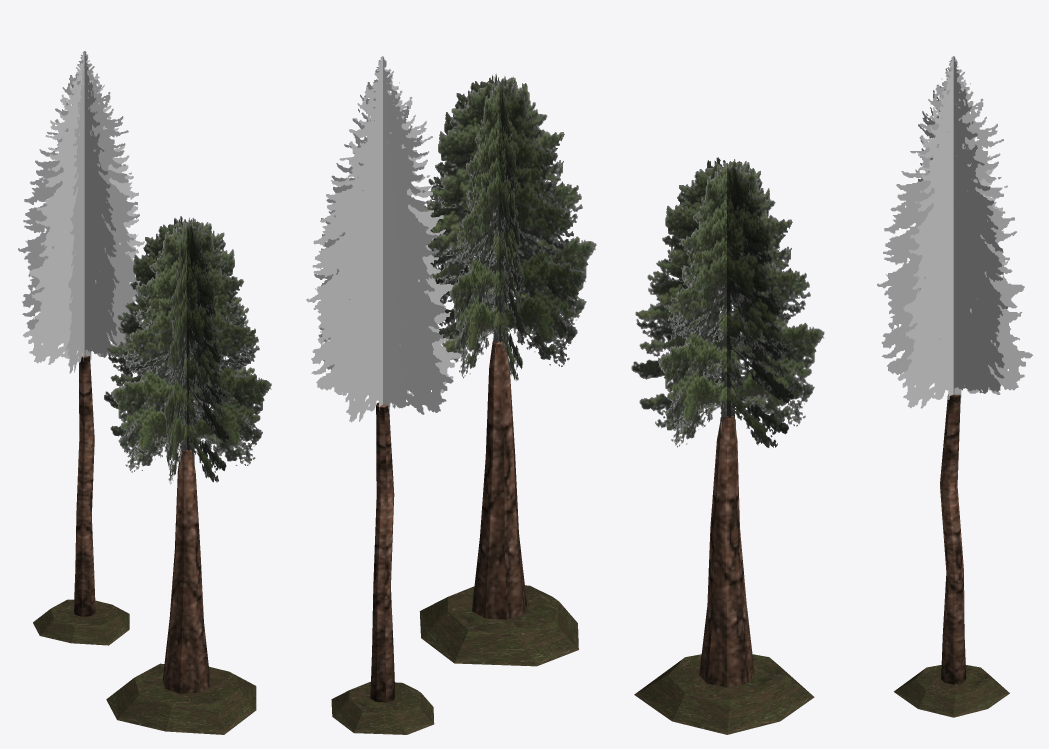
The model's file is 2 Trees.fbx.
The picture shows the model from 3 angles, left to right: view 1: azimuth 30°, elevation 25°; view 2: azimuth 150°, elevation 25°; view 3: azimuth 270°, elevation 25°; orthographic projection. The views are drawn at different scales.
Parts seen in each view (by area): view 1: Tree.1, Tree, Bark.1, Ground.1, Bark, Ground; view 2: Tree.1, Tree, Bark.1, Ground.1, Bark, Ground; view 3: Tree.1, Tree, Bark.1, Ground.1, Bark, Ground.
Boxes of the visible parts, x1,y1,x2,y2 form: Tree.1: [104, 216, 271, 484]; Tree: [18, 51, 144, 373]; Bark.1: [162, 450, 210, 693]; Ground.1: [106, 663, 256, 734]; Bark: [74, 355, 95, 616]; Ground: [33, 599, 129, 645]; Tree.1: [423, 73, 596, 380]; Tree: [306, 56, 461, 422]; Bark.1: [472, 340, 526, 619]; Ground.1: [419, 585, 578, 666]; Bark: [370, 402, 395, 702]; Ground: [331, 681, 434, 734]; Tree.1: [631, 157, 824, 447]; Tree: [877, 56, 1033, 408]; Bark.1: [699, 416, 754, 686]; Ground.1: [634, 654, 814, 734]; Bark: [940, 394, 966, 684]; Ground: [894, 665, 1009, 717].
Size of the model in its own units: 246 by 884 by 503.
Materials: 4 (3 with a texture image).
